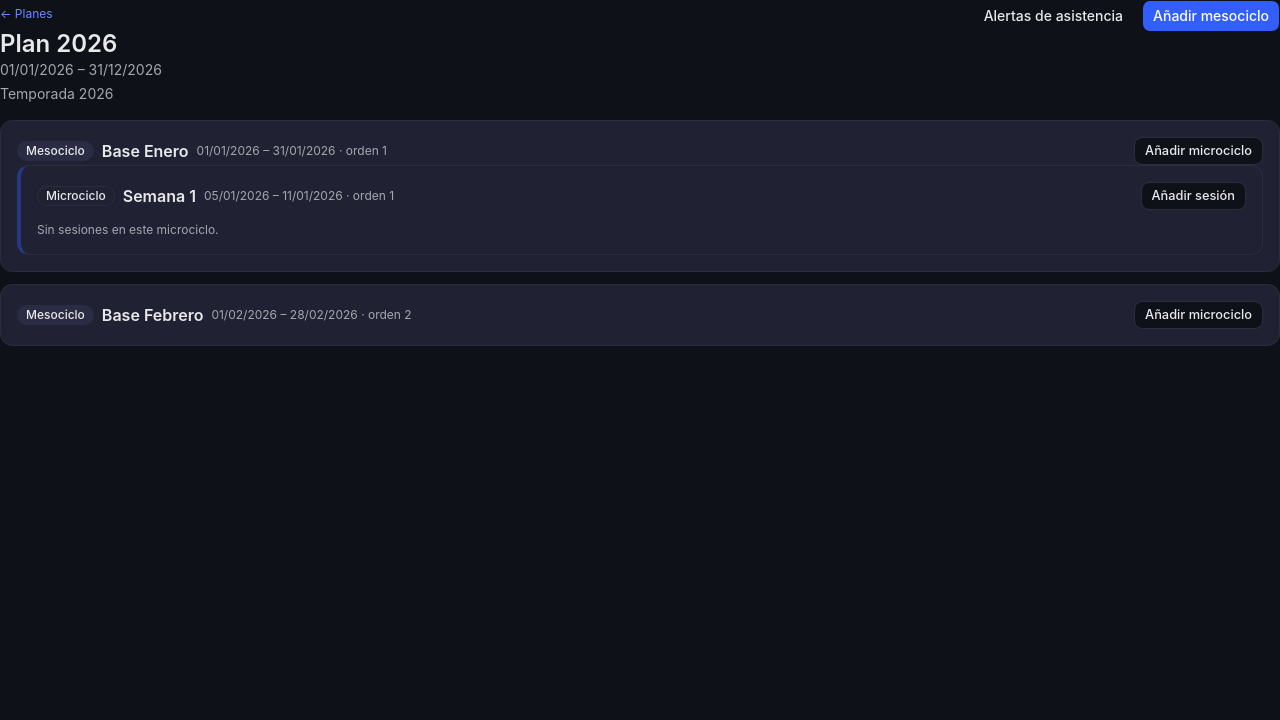
it: CycleFormDialog — bloqueos locales (T5) › mapea un 400 del back a mensaje seguro (nunca texto crudo)
Click the button with test id "cycle-create-root" at (1211, 16), box [1142,0,1279,32]
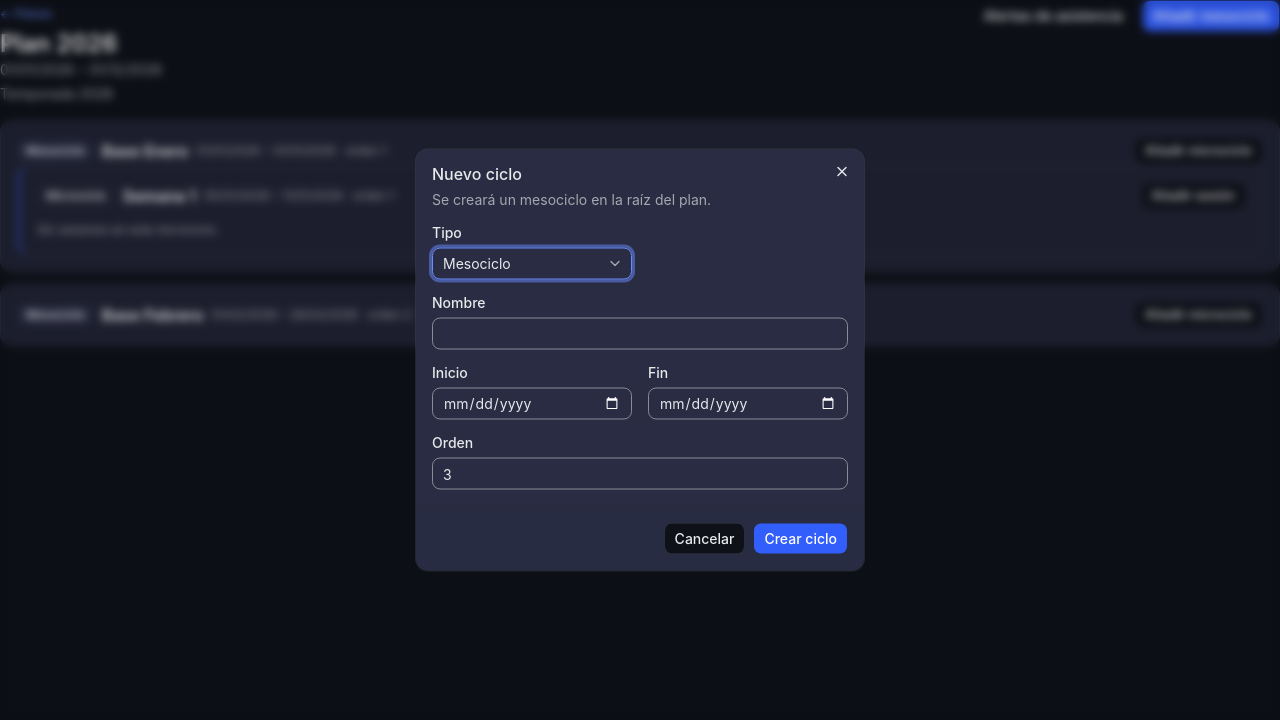
Type "Base Marzo" into the field with test id "cycle-form-name" at (640, 334), box [432,318,848,350]
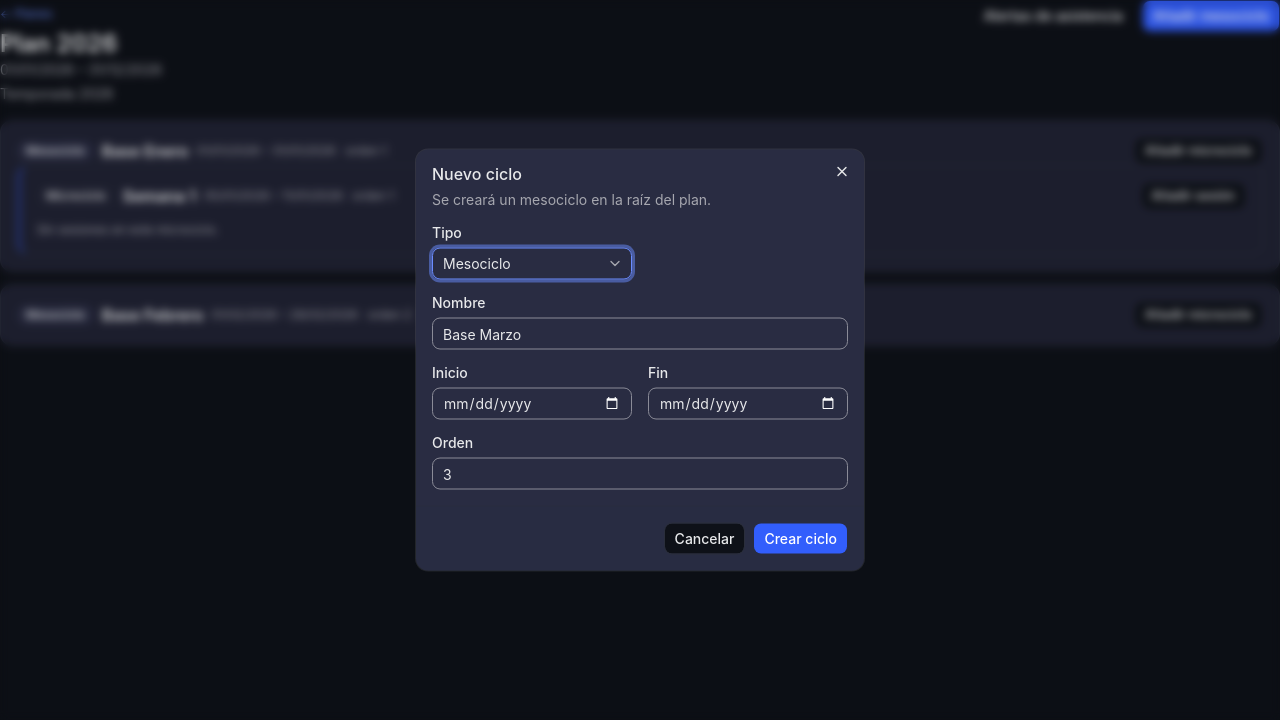
Type "2026-03-01" into the date field with test id "cycle-form-startDate" at (532, 404), box [432,388,632,420]
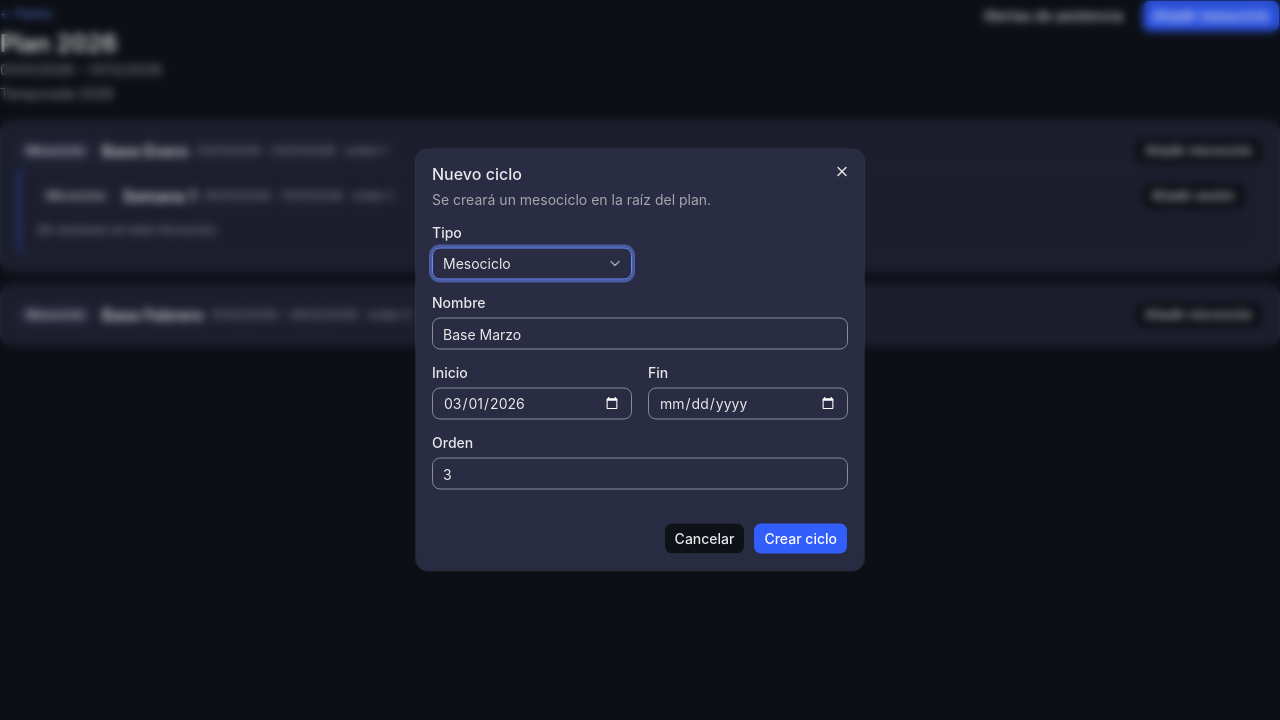
Type "2026-03-31" into the date field with test id "cycle-form-endDate" at (748, 404), box [648,388,848,420]
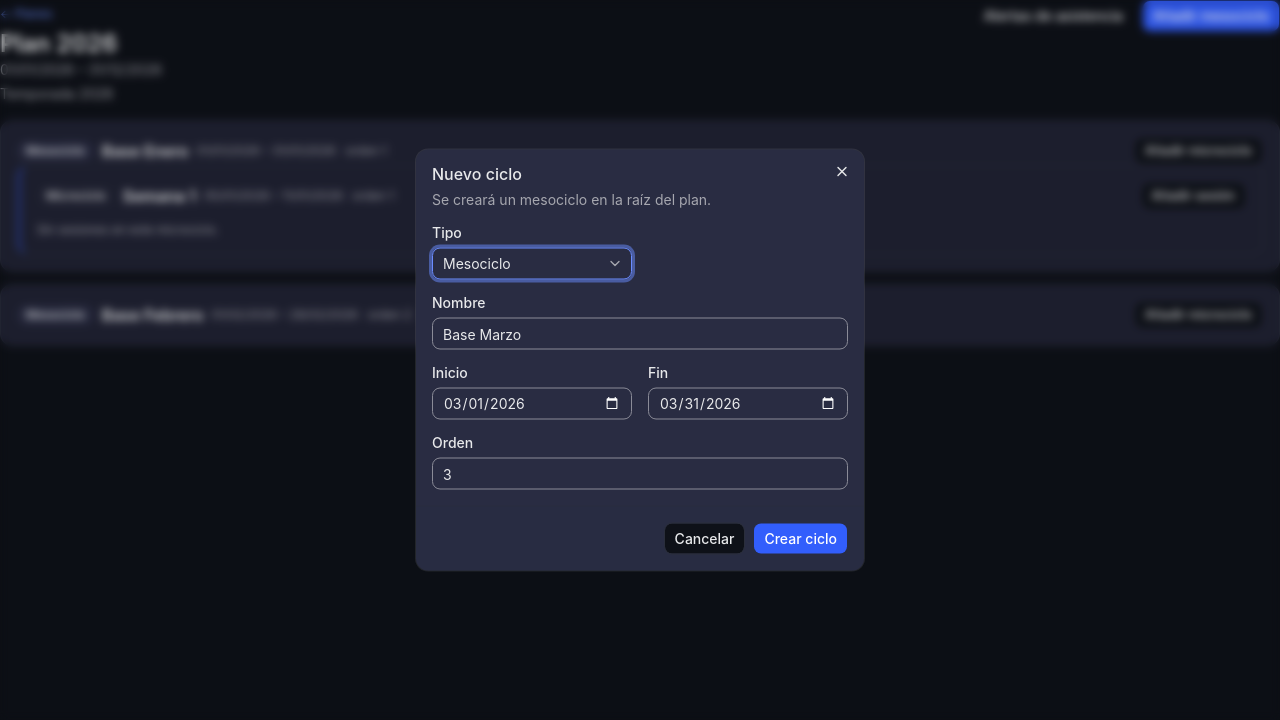
Click the button with test id "cycle-form-submit" at (801, 538), box [754,522,848,554]
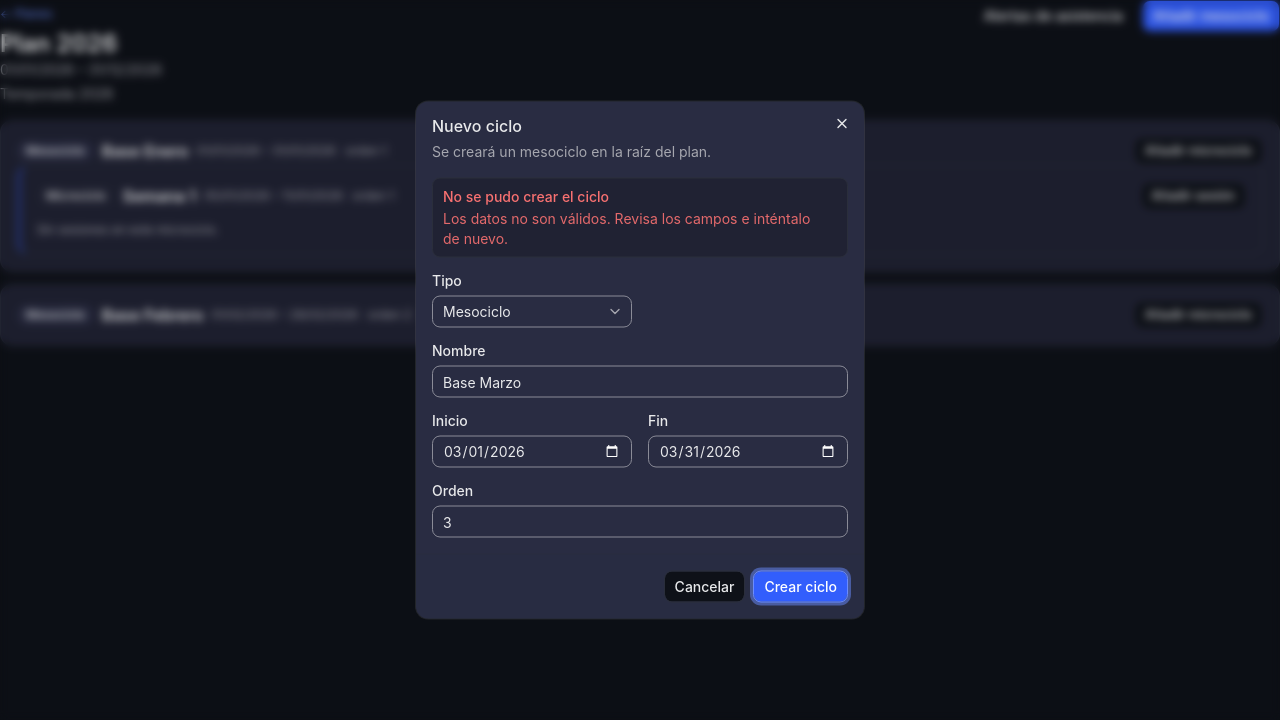
Check: the message with test id "cycle-form-error" does not show "raw backend english validation detail", box [432,178,848,258]
Check: the message with test id "cycle-form-error" is shown, box [432,178,848,258]
